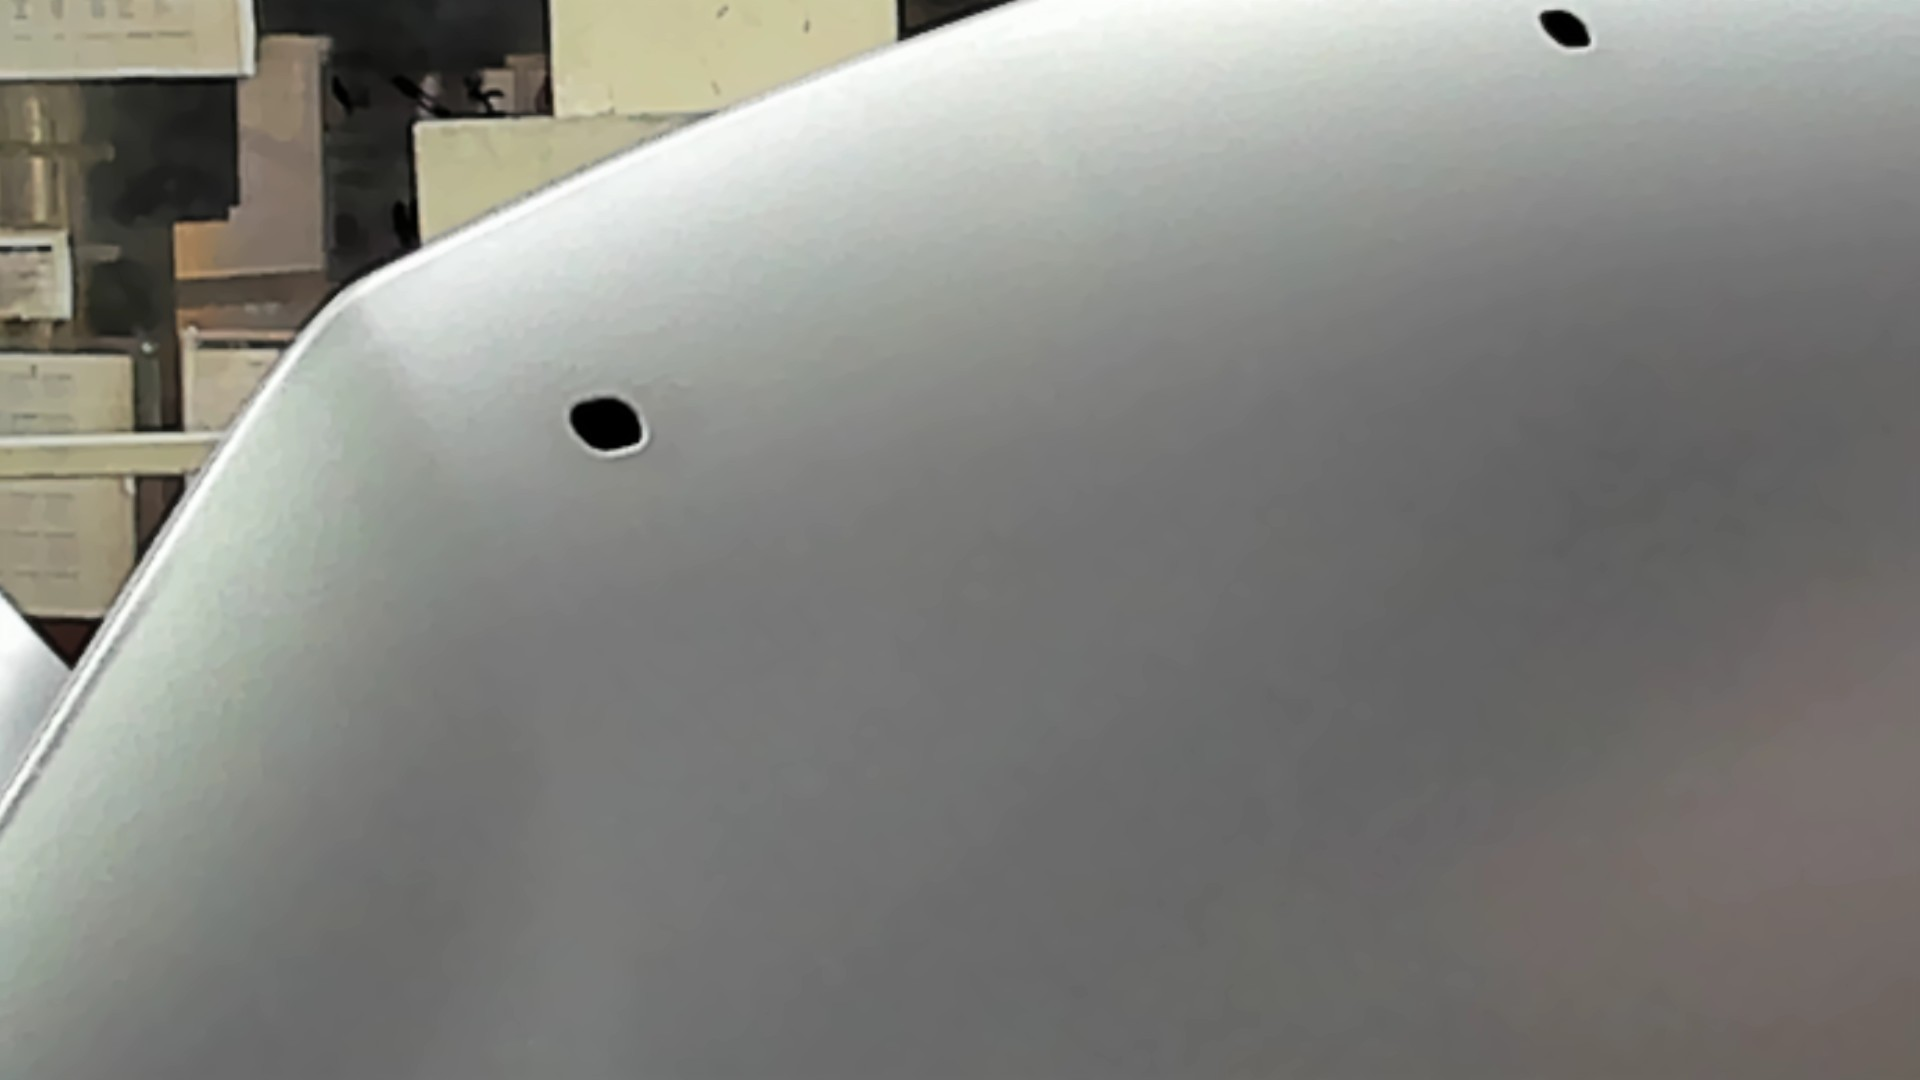amorfo: (560, 392, 655, 462), (1530, 3, 1598, 55)
capo: (752, 160, 1920, 1080)
